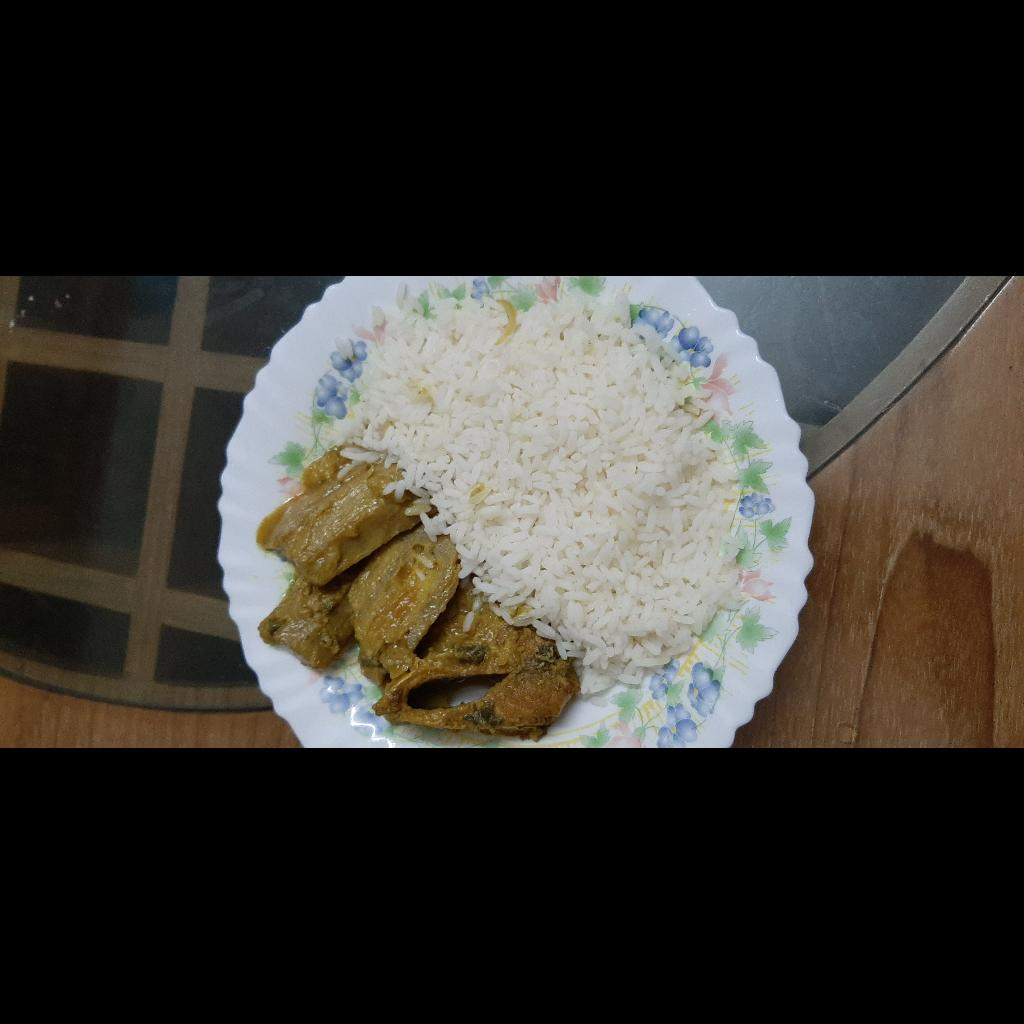banana: (61, 532, 299, 733)
fish: (4, 651, 142, 849)
rice: (53, 602, 462, 1024)
